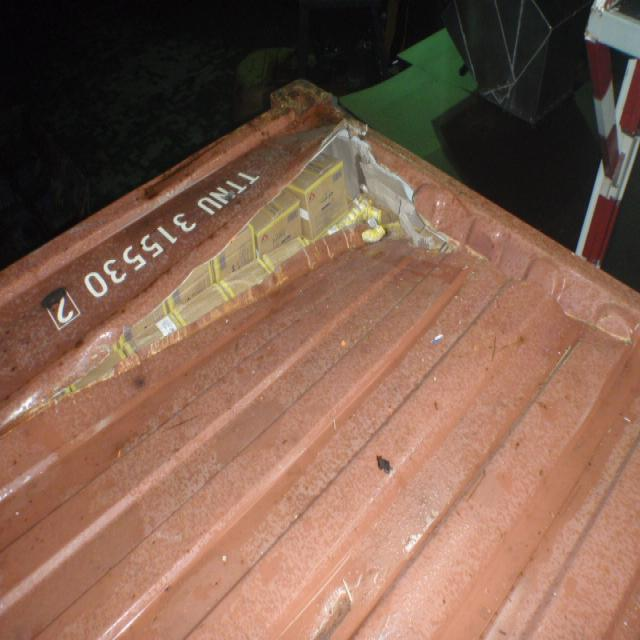hole: (1, 120, 432, 413)
